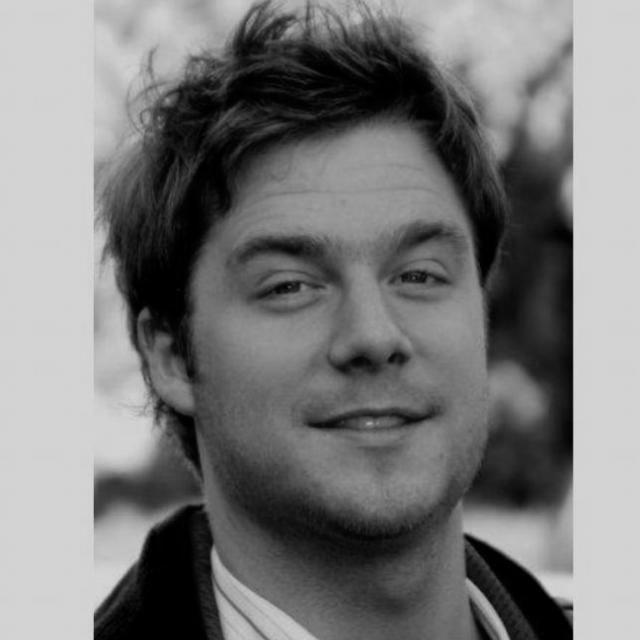real: (126, 94, 512, 568)
